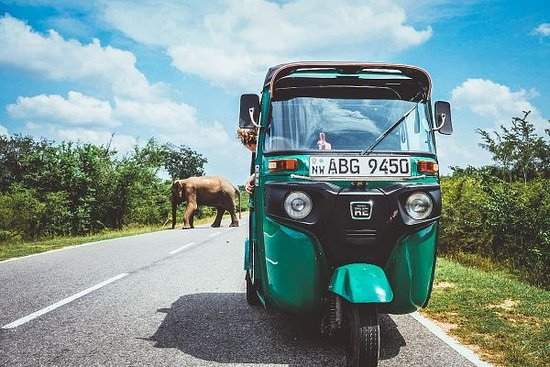tuk tuk: (236, 61, 453, 367)
